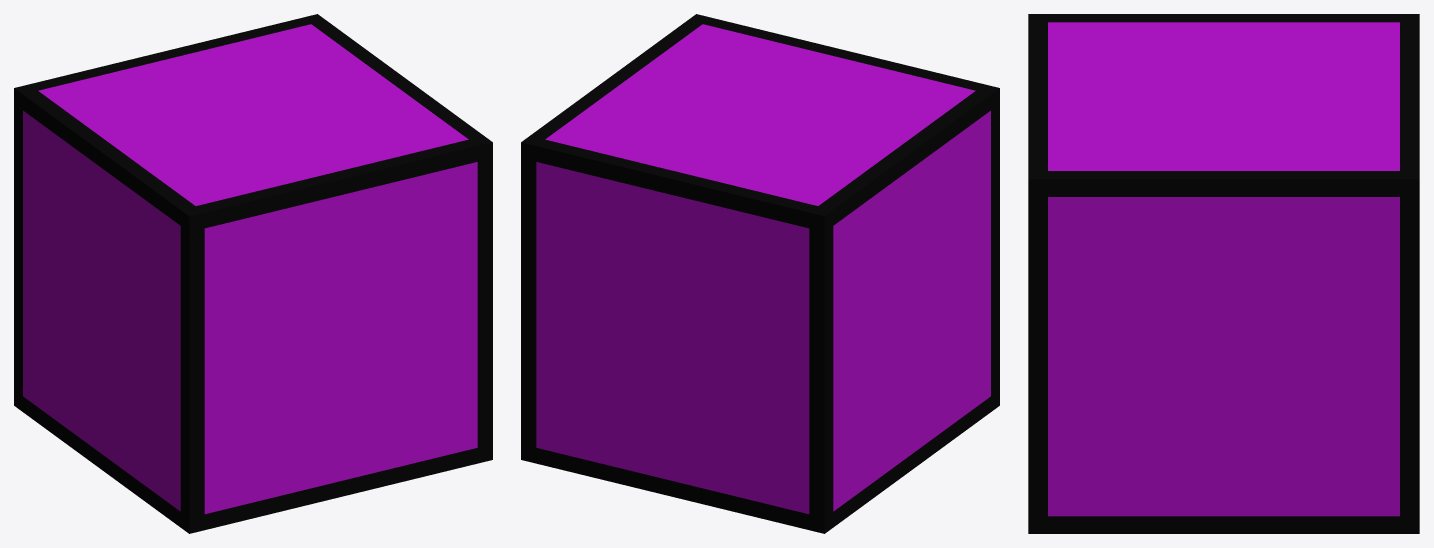
Rendered from Violet.fbx.
3 renders of one model, left to right at view 1: azimuth 30°, elevation 25°; view 2: azimuth 150°, elevation 25°; view 3: azimuth 270°, elevation 25°, orthographic. The views are drawn at different scales.
Visible parts, largest first — view 1: Cube; view 2: Cube; view 3: Cube.
Boxes of the visible parts, <box> form: Cube: <box>14,14,492,533</box>; Cube: <box>521,14,999,533</box>; Cube: <box>1028,14,1419,533</box>.
Bounding box in the file's own units: 200 × 200 × 200.
